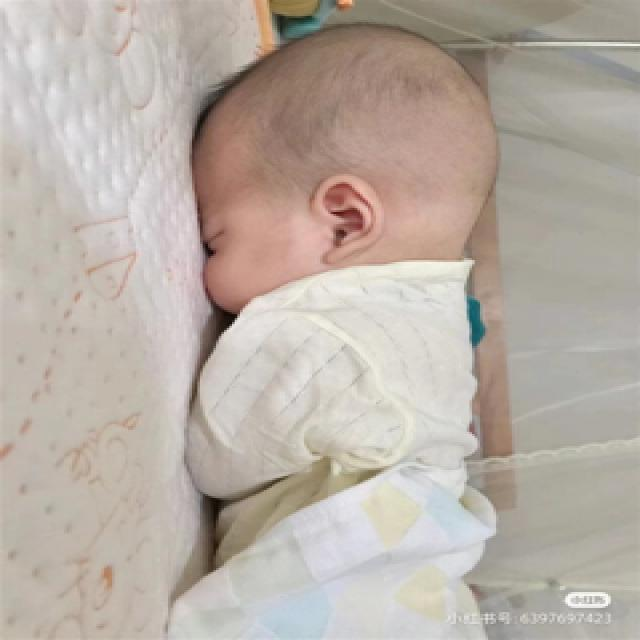child: (141, 36, 552, 617)
